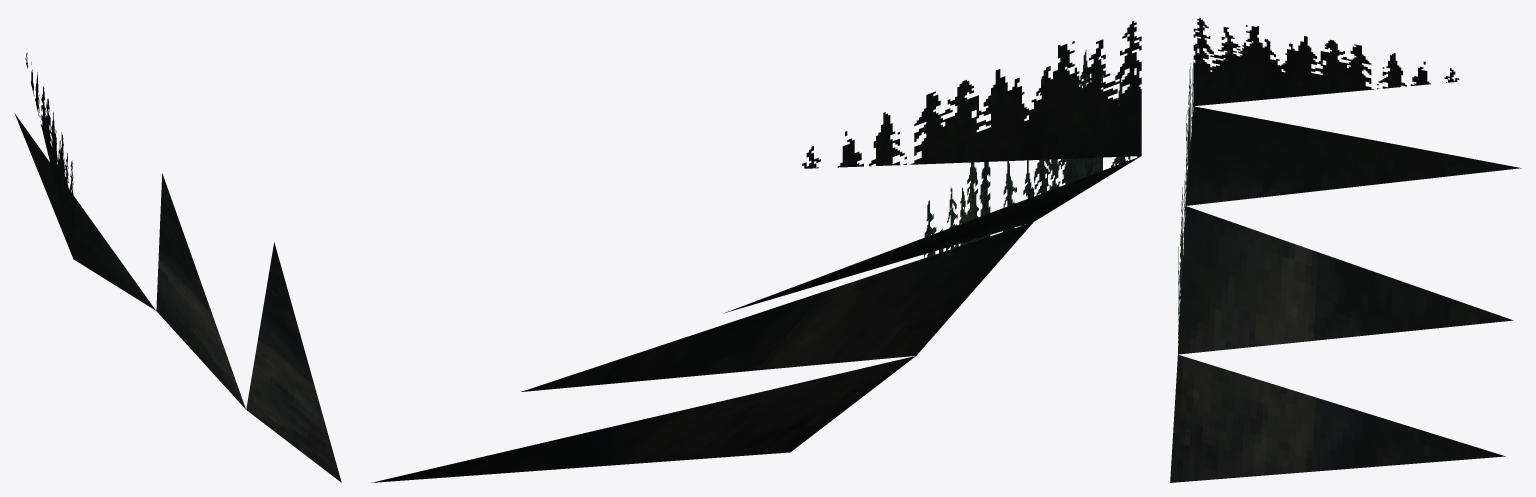
Rendered from cell_-3_-7.gltf.
3 views of the same model, side by side, from view 1: azimuth 30°, elevation 25°; view 2: azimuth 150°, elevation 25°; view 3: azimuth 270°, elevation 25° (orthographic). The views are drawn at different scales.
Visible parts, largest first — view 1: cell_-3_-7; view 2: cell_-3_-7; view 3: cell_-3_-7.
Boxes of the visible parts, <box> form: cell_-3_-7: <box>14,52,341,482</box>; cell_-3_-7: <box>371,21,1141,482</box>; cell_-3_-7: <box>1170,17,1521,482</box>.
Bounding box in the file's own units: 48.86 × 47.69 × 43.2.
3 materials, 3 textured.
